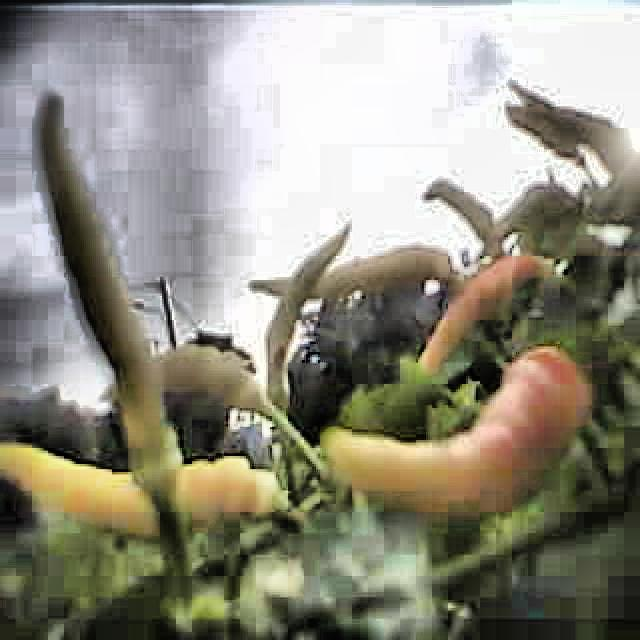Cabai: (303, 343, 588, 520), (396, 240, 561, 366)
